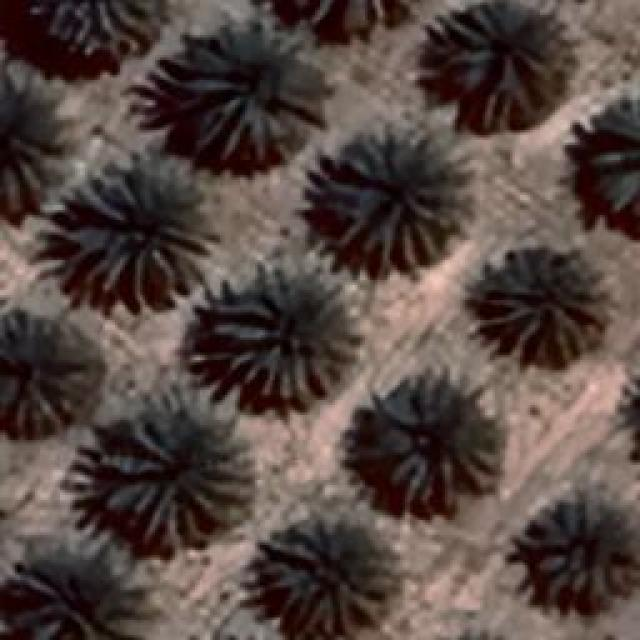PalmTree: (29, 15, 351, 150), (107, 388, 250, 548), (175, 22, 328, 168), (68, 154, 210, 308), (208, 265, 360, 405), (315, 135, 460, 270), (370, 380, 500, 508), (480, 245, 608, 368), (257, 522, 395, 636), (442, 4, 556, 128), (522, 500, 636, 602), (18, 555, 158, 635), (0, 310, 88, 432), (32, 0, 157, 52), (592, 92, 638, 218), (621, 356, 640, 470), (412, 626, 528, 640), (418, 629, 524, 640)
